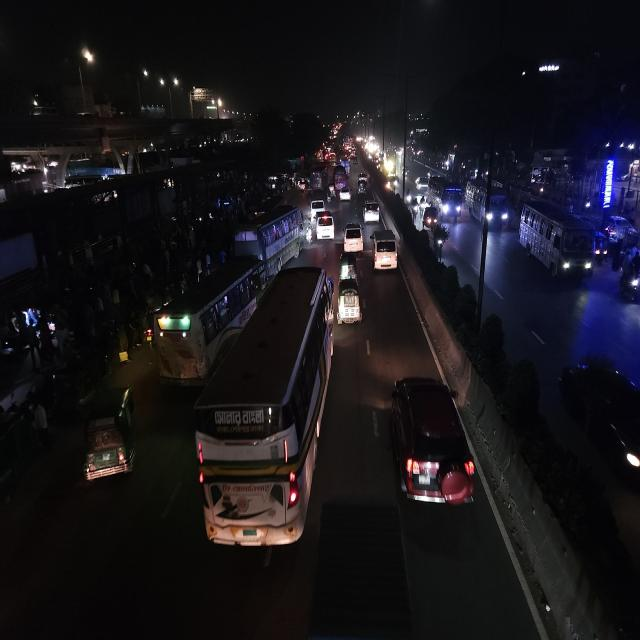bus: (190, 267, 334, 558), (153, 253, 259, 384), (517, 198, 600, 288), (233, 201, 308, 268), (471, 178, 509, 232), (428, 175, 464, 221), (332, 164, 350, 201), (310, 162, 328, 191)
car: (388, 371, 478, 519), (371, 224, 399, 278), (344, 222, 364, 256), (315, 209, 335, 242), (362, 197, 382, 223), (422, 204, 440, 230), (310, 195, 326, 217), (337, 185, 351, 202), (415, 173, 428, 190)
cng: (79, 382, 139, 488), (337, 275, 363, 331), (338, 252, 354, 280), (356, 180, 368, 195)
motorcycle: (140, 316, 155, 350), (410, 196, 419, 220)
